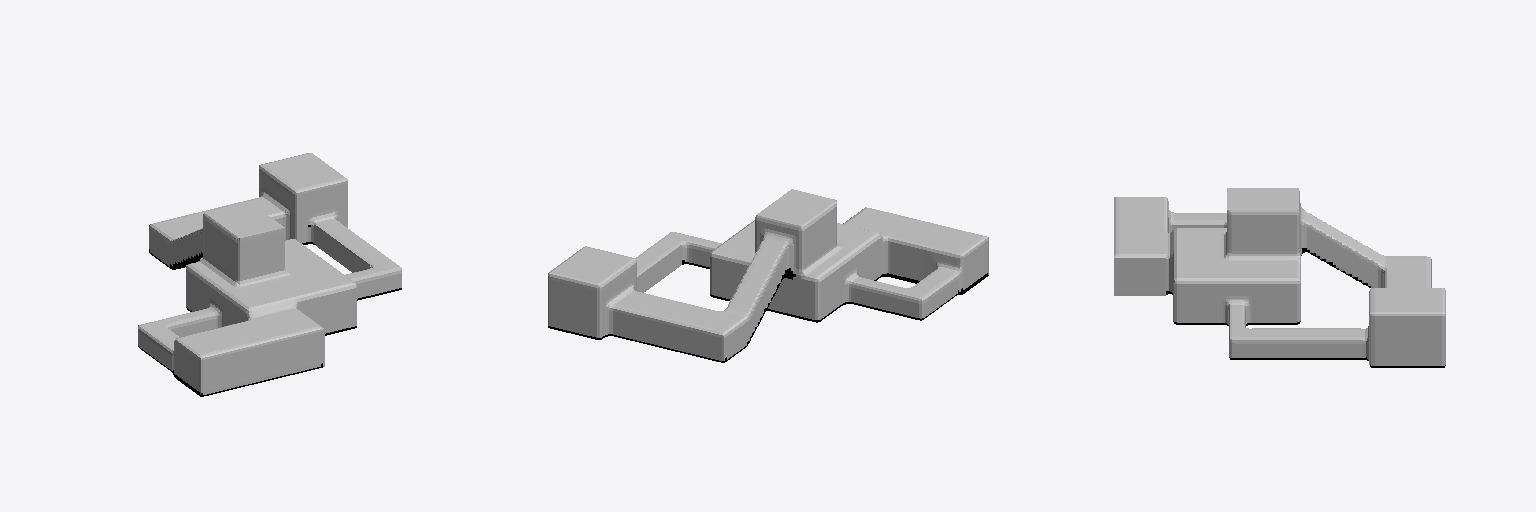
The model's file is ship.obj.
3 views of the same model, side by side, from view 1: azimuth 30°, elevation 25°; view 2: azimuth 150°, elevation 25°; view 3: azimuth 270°, elevation 25° (orthographic).
Visible parts, largest first — view 1: Cube; view 2: Cube; view 3: Cube.
Boxes of the visible parts, x1,y1,x2,y2 form: Cube: [138, 153, 401, 396]; Cube: [548, 189, 988, 362]; Cube: [1114, 188, 1445, 367].
Bounding box in the file's own units: 24.96 × 8.11 × 25.96.